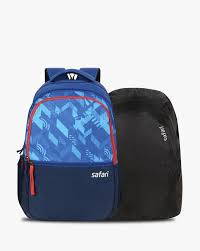backpack: (16, 67, 182, 221)
